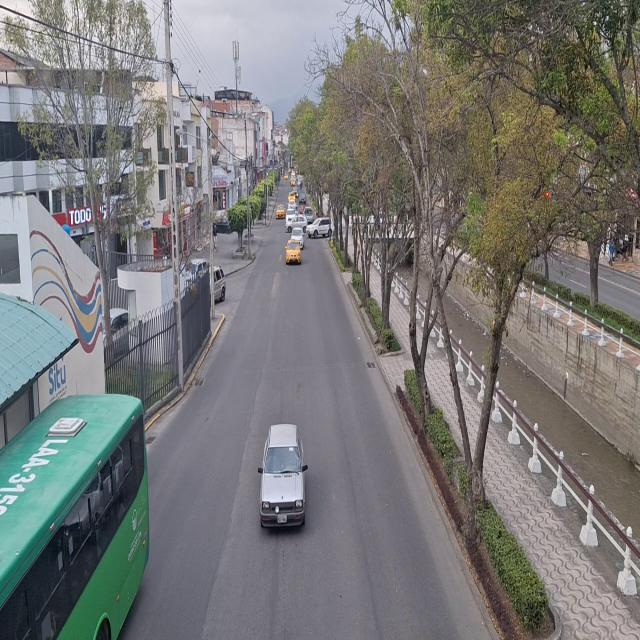BUS: (0, 396, 142, 640)
SED: (259, 430, 305, 534)
SUV: (308, 218, 332, 238)
